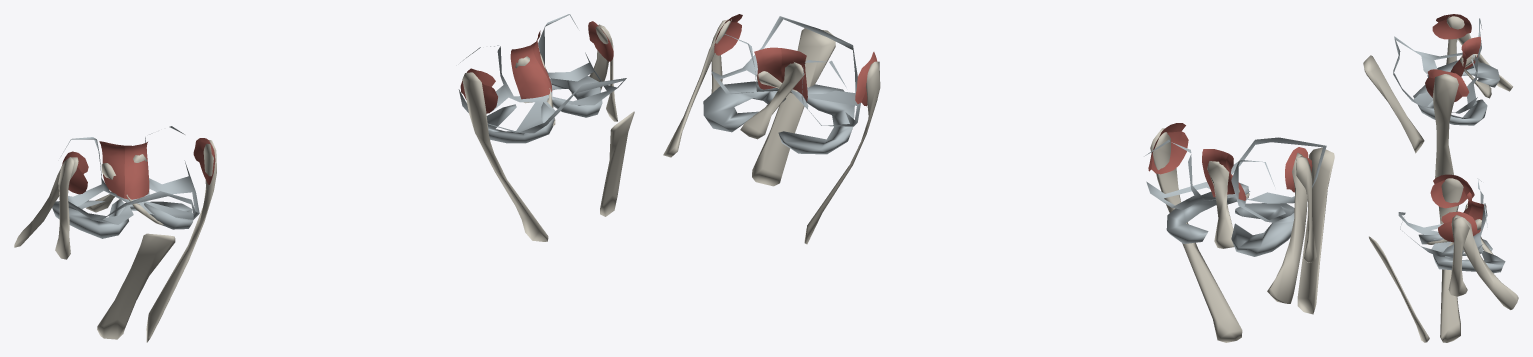
File: adult_female.joint.LOD3.glb
3 views of the same model, side by side, from view 1: azimuth 30°, elevation 25°; view 2: azimuth 150°, elevation 25°; view 3: azimuth 270°, elevation 25° (orthographic). The views are drawn at different scales.
Visible parts, largest first — view 1: ADULT.FEMALE.JOINT.ARTICULAR_CARTILAGE_OF_KNEE.L, ADULT.FEMALE.JOINT.PATELLAR_LIGAMENT.R, ADULT.FEMALE.JOINT.ARTICULAR_CARTILAGE_OF_KNEE.R, ADULT.FEMALE.JOINT.TIBIAL_COLLATERAL_LIGAMENT.L, ADULT.FEMALE.JOINT.MENISCUS.L, ADULT.FEMALE.JOINT.MENISCUS.R, ADULT.FEMALE.JOINT.TIBIAL_COLLATERAL_LIGAMENT.R, ADULT.FEMALE.JOINT.PATELLAR_LIGAMENT.L, ADULT.FEMALE.JOINT.POSTERIOR_CRUCIATE_ENTHESIS.L, ADULT.FEMALE.JOINT.POSTERIOR_CRUCIATE_ENTHESIS.R, ADULT.FEMALE.JOINT.ANTEROLATERAL_LIGAMENT_OF_KNEE.R, ADULT.FEMALE.JOINT.ANTERIOR_CRUCIATE_ENTHESIS.R (+2 smaller); view 2: ADULT.FEMALE.JOINT.MENISCUS.L, ADULT.FEMALE.JOINT.MENISCUS.R, ADULT.FEMALE.JOINT.PATELLAR_LIGAMENT.L, ADULT.FEMALE.JOINT.TIBIAL_COLLATERAL_LIGAMENT.R, ADULT.FEMALE.JOINT.PATELLAR_LIGAMENT.R, ADULT.FEMALE.JOINT.ARTICULAR_CARTILAGE_OF_KNEE.R, ADULT.FEMALE.JOINT.ARTICULAR_CARTILAGE_OF_KNEE.L, ADULT.FEMALE.JOINT.FIBULAR_COLLATERAL_LIGAMENT.R, ADULT.FEMALE.JOINT.POSTERIOR_CRUCIATE_LIGAMENT_OF_KNEE.R, ADULT.FEMALE.JOINT.POSTERIOR_CRUCIATE_LIGAMENT_OF_KNEE.L, ADULT.FEMALE.JOINT.TIBIAL_COLLATERAL_LIGAMENT.L, ADULT.FEMALE.JOINT.FIBULAR_COLLATERAL_LIGAMENT.L (+6 smaller); view 3: ADULT.FEMALE.JOINT.TIBIAL_COLLATERAL_LIGAMENT.R, ADULT.FEMALE.JOINT.TIBIAL_COLLATERAL_LIGAMENT.L, ADULT.FEMALE.JOINT.MENISCUS.R, ADULT.FEMALE.JOINT.FIBULAR_COLLATERAL_LIGAMENT.L, ADULT.FEMALE.JOINT.ARTICULAR_CARTILAGE_OF_KNEE.R, ADULT.FEMALE.JOINT.PATELLAR_LIGAMENT.R, ADULT.FEMALE.JOINT.ANTEROLATERAL_LIGAMENT_OF_KNEE.L, ADULT.FEMALE.JOINT.MENISCUS.L, ADULT.FEMALE.JOINT.ARTICULAR_CARTILAGE_OF_KNEE.L, ADULT.FEMALE.JOINT.PATELLAR_LIGAMENT.L, ADULT.FEMALE.JOINT.FIBULAR_COLLATERAL_LIGAMENT.R, ADULT.FEMALE.JOINT.LATERAL_PERICHONDULAR_SURFACE.R (+12 smaller).
Part boxes in pixels (x1=…): ADULT.FEMALE.JOINT.ARTICULAR_CARTILAGE_OF_KNEE.L: x1=458, y1=14, x2=626, y2=133; ADULT.FEMALE.JOINT.PATELLAR_LIGAMENT.R: x1=97, y1=233, x2=175, y2=339; ADULT.FEMALE.JOINT.ARTICULAR_CARTILAGE_OF_KNEE.R: x1=61, y1=126, x2=199, y2=224; ADULT.FEMALE.JOINT.TIBIAL_COLLATERAL_LIGAMENT.L: x1=462, y1=72, x2=548, y2=241; ADULT.FEMALE.JOINT.MENISCUS.L: x1=486, y1=75, x2=602, y2=143; ADULT.FEMALE.JOINT.MENISCUS.R: x1=52, y1=199, x2=193, y2=238; ADULT.FEMALE.JOINT.TIBIAL_COLLATERAL_LIGAMENT.R: x1=146, y1=140, x2=216, y2=342; ADULT.FEMALE.JOINT.PATELLAR_LIGAMENT.L: x1=600, y1=111, x2=634, y2=216; ADULT.FEMALE.JOINT.POSTERIOR_CRUCIATE_ENTHESIS.L: x1=510, y1=42, x2=551, y2=99; ADULT.FEMALE.JOINT.POSTERIOR_CRUCIATE_ENTHESIS.R: x1=124, y1=142, x2=149, y2=199; ADULT.FEMALE.JOINT.ANTEROLATERAL_LIGAMENT_OF_KNEE.R: x1=55, y1=157, x2=74, y2=259; ADULT.FEMALE.JOINT.ANTERIOR_CRUCIATE_ENTHESIS.R: x1=99, y1=141, x2=124, y2=198; ADULT.FEMALE.JOINT.MENISCUS.L: x1=703, y1=81, x2=854, y2=154; ADULT.FEMALE.JOINT.MENISCUS.R: x1=1166, y1=183, x2=1294, y2=256; ADULT.FEMALE.JOINT.PATELLAR_LIGAMENT.L: x1=752, y1=28, x2=835, y2=186; ADULT.FEMALE.JOINT.TIBIAL_COLLATERAL_LIGAMENT.R: x1=1150, y1=128, x2=1242, y2=342; ADULT.FEMALE.JOINT.PATELLAR_LIGAMENT.R: x1=1297, y1=147, x2=1334, y2=314; ADULT.FEMALE.JOINT.ARTICULAR_CARTILAGE_OF_KNEE.R: x1=1144, y1=137, x2=1326, y2=222; ADULT.FEMALE.JOINT.ARTICULAR_CARTILAGE_OF_KNEE.L: x1=711, y1=16, x2=860, y2=126; ADULT.FEMALE.JOINT.FIBULAR_COLLATERAL_LIGAMENT.R: x1=1267, y1=153, x2=1307, y2=303; ADULT.FEMALE.JOINT.POSTERIOR_CRUCIATE_LIGAMENT_OF_KNEE.R: x1=1207, y1=161, x2=1234, y2=248; ADULT.FEMALE.JOINT.POSTERIOR_CRUCIATE_LIGAMENT_OF_KNEE.L: x1=740, y1=62, x2=804, y2=139; ADULT.FEMALE.JOINT.TIBIAL_COLLATERAL_LIGAMENT.L: x1=804, y1=61, x2=880, y2=244; ADULT.FEMALE.JOINT.FIBULAR_COLLATERAL_LIGAMENT.L: x1=663, y1=19, x2=731, y2=157; ADULT.FEMALE.JOINT.TIBIAL_COLLATERAL_LIGAMENT.R: x1=1432, y1=74, x2=1458, y2=178; ADULT.FEMALE.JOINT.TIBIAL_COLLATERAL_LIGAMENT.L: x1=1438, y1=178, x2=1463, y2=342; ADULT.FEMALE.JOINT.MENISCUS.R: x1=1413, y1=60, x2=1499, y2=125; ADULT.FEMALE.JOINT.FIBULAR_COLLATERAL_LIGAMENT.L: x1=1451, y1=215, x2=1518, y2=309; ADULT.FEMALE.JOINT.ARTICULAR_CARTILAGE_OF_KNEE.R: x1=1393, y1=18, x2=1482, y2=113; ADULT.FEMALE.JOINT.PATELLAR_LIGAMENT.R: x1=1363, y1=55, x2=1424, y2=153; ADULT.FEMALE.JOINT.ANTEROLATERAL_LIGAMENT_OF_KNEE.L: x1=1448, y1=217, x2=1469, y2=296; ADULT.FEMALE.JOINT.MENISCUS.L: x1=1418, y1=234, x2=1505, y2=273; ADULT.FEMALE.JOINT.ARTICULAR_CARTILAGE_OF_KNEE.L: x1=1398, y1=178, x2=1487, y2=256; ADULT.FEMALE.JOINT.PATELLAR_LIGAMENT.L: x1=1369, y1=236, x2=1429, y2=342; ADULT.FEMALE.JOINT.FIBULAR_COLLATERAL_LIGAMENT.R: x1=1446, y1=16, x2=1512, y2=91; ADULT.FEMALE.JOINT.LATERAL_PERICHONDULAR_SURFACE.R: x1=1432, y1=19, x2=1466, y2=39.
Bounding box in the file's own units: 0.3578 × 0.1167 × 0.1064.
